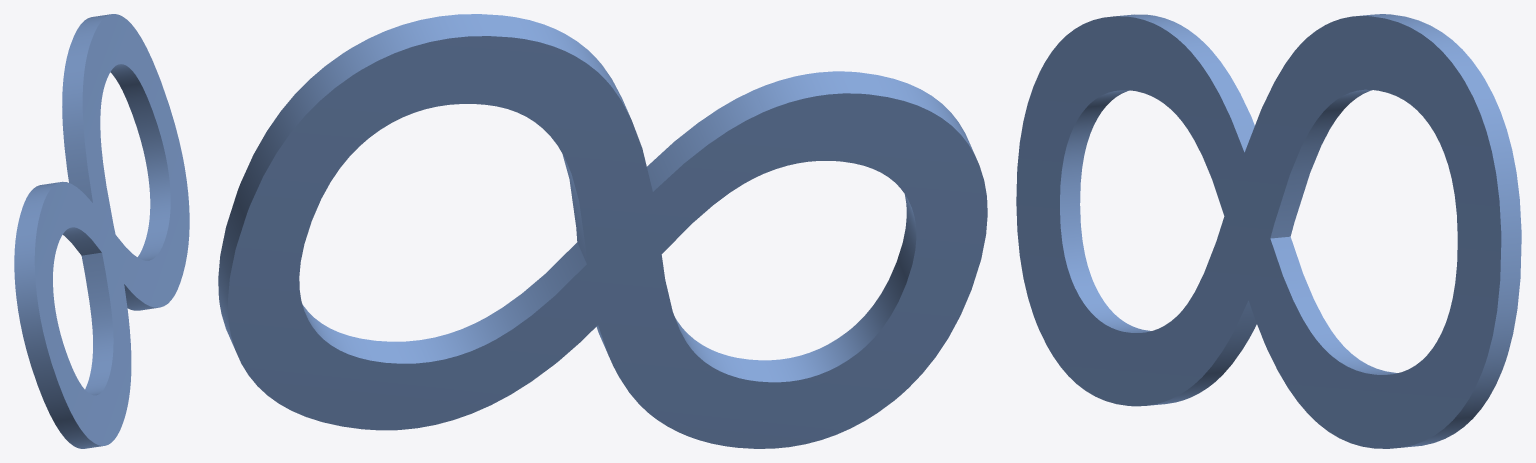
File: New_Number_8.gltf
3 renders of one model, left to right at view 1: azimuth 30°, elevation 25°; view 2: azimuth 150°, elevation 25°; view 3: azimuth 270°, elevation 25°, orthographic. The views are drawn at different scales.
Visible parts, largest first — view 1: Part 224; view 2: Part 224; view 3: Part 224.
Boxes of the visible parts, x1,y1,x2,y2 form: Part 224: (14, 14, 189, 448); Part 224: (218, 14, 987, 448); Part 224: (1016, 14, 1521, 448).
Size of the model in its own units: 0.00431 by 0.00408 by 0.00421.
